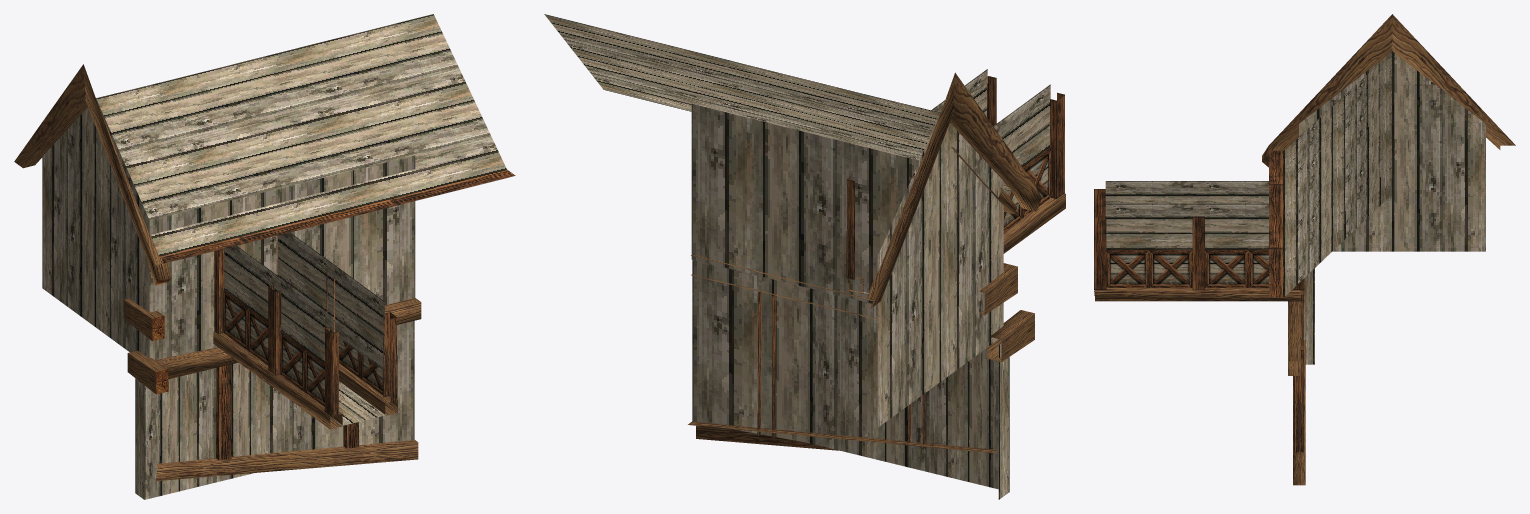
File: LAKETOWN_EXTERIOR_PS_LT_FISHRAMP978__GX.fbx
3 renders of one model, left to right at view 1: azimuth 30°, elevation 25°; view 2: azimuth 150°, elevation 25°; view 3: azimuth 270°, elevation 25°, orthographic. The views are drawn at different scales.
Parts seen in each view (by area): view 1: LAKETOWN_EXTERIOR_PS_LT_FISHRAMP978__GX; view 2: LAKETOWN_EXTERIOR_PS_LT_FISHRAMP978__GX; view 3: LAKETOWN_EXTERIOR_PS_LT_FISHRAMP978__GX.
Boxes of the visible parts, x1,y1,x2,y2 form: LAKETOWN_EXTERIOR_PS_LT_FISHRAMP978__GX: (14, 14, 515, 499); LAKETOWN_EXTERIOR_PS_LT_FISHRAMP978__GX: (544, 14, 1065, 499); LAKETOWN_EXTERIOR_PS_LT_FISHRAMP978__GX: (1094, 14, 1515, 485).
Bounding box in the file's own units: 87609 × 97657 × 101546.
6 materials, 6 textured.
